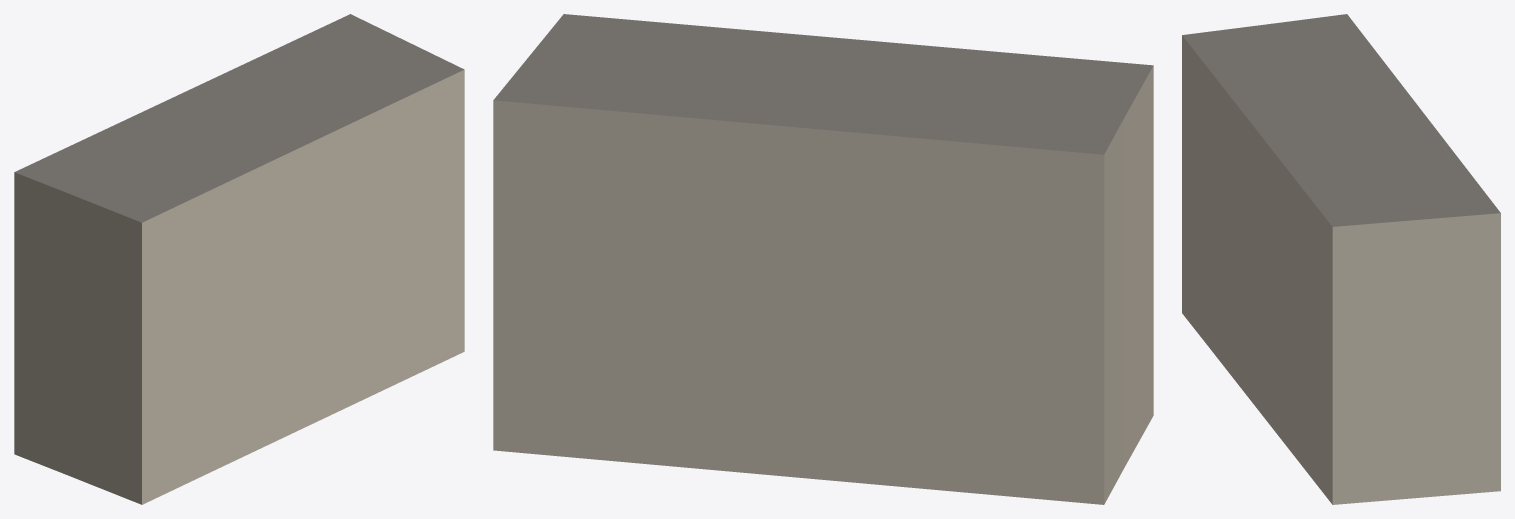
The picture shows the model from 3 angles, left to right: view 1: azimuth 30°, elevation 25°; view 2: azimuth 150°, elevation 25°; view 3: azimuth 270°, elevation 25°; orthographic projection. The views are drawn at different scales.
Visible parts, largest first — view 1: HP-w1198563493; view 2: HP-w1198563493; view 3: HP-w1198563493.
Boxes of the visible parts, box(x1,y1,x2,y2) form: HP-w1198563493: box(14, 14, 464, 504); HP-w1198563493: box(493, 14, 1153, 504); HP-w1198563493: box(1182, 14, 1500, 504).
Size of the model in its own units: 29.57 by 18 by 18.72.
